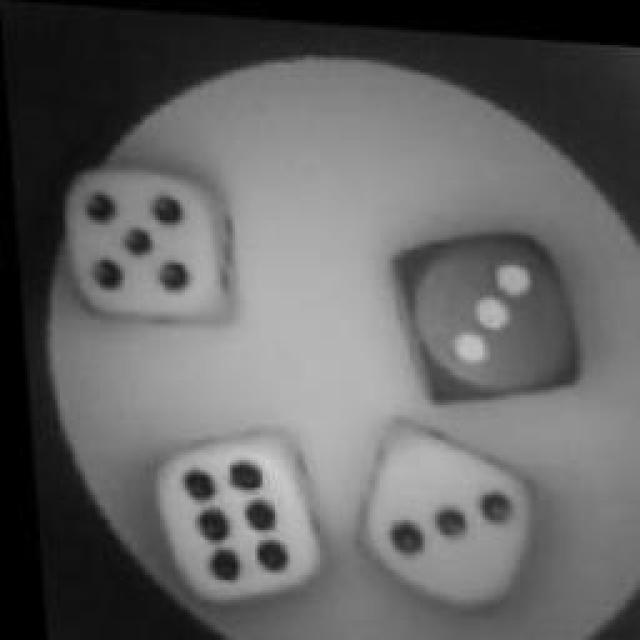dice_3: (348, 426, 530, 606), (404, 218, 571, 398)
dice_5: (55, 160, 240, 328)
dice_6: (146, 424, 326, 611)
